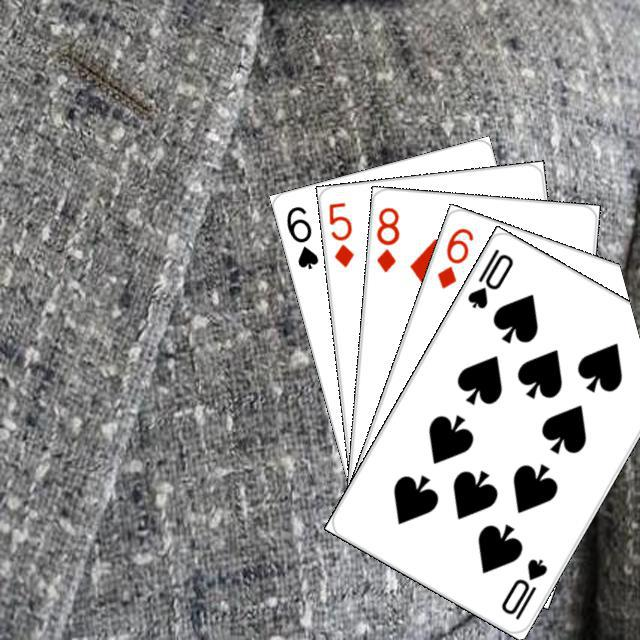10s: (462, 243, 515, 311), (496, 553, 549, 621)
5d: (323, 197, 355, 269)
6d: (432, 222, 476, 291)
6s: (281, 201, 320, 271)
8d: (371, 202, 402, 274)
